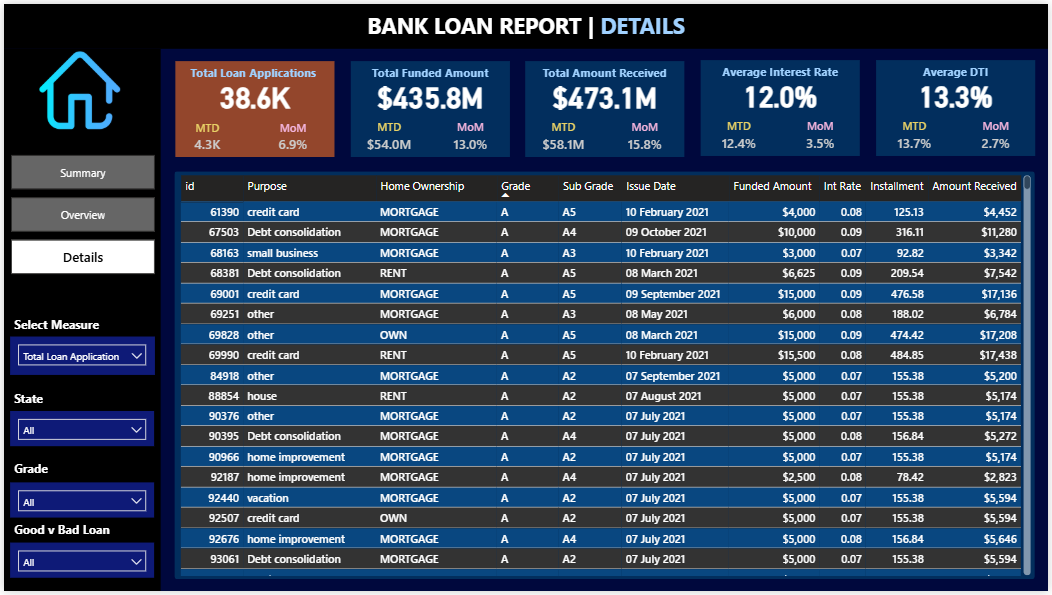

Layout of this report page (visuals, bound fields, positions):
{"tool":"powerbi","page":{"name":"Details","canvas":[1280,720],"ordinal":2},"visuals":[{"type":"shape","box":[0,55,192,665],"z":0},{"type":"shape","box":[854.2,69.3,195,117.5],"z":0,"group":"g4"},{"type":"shape","box":[1069.4,69.3,195,117.5],"z":0,"group":"g5"},{"type":"shape","box":[425.2,69.4,195,117.5],"z":0,"group":"g2"},{"type":"shape","box":[639.4,69.4,195,117.5],"z":0,"group":"g3"},{"type":"shape","box":[210.4,70,195,117.5],"z":0,"group":"g1"},{"type":"card","fields":{"Values":["bank_loan_data.Avg Interest Rate"]},"box":[854.2,88.7,195,45.6],"z":1000,"group":"g4"},{"type":"card","fields":{"Values":["bank_loan_data.Avg DTI"]},"box":[1069.4,88.7,195,45.6],"z":1000,"group":"g5"},{"type":"card","fields":{"Values":["bank_loan_data.Total Funded Amount"]},"box":[425.2,88.8,195,45.6],"z":1000,"group":"g2"},{"type":"card","fields":{"Values":["bank_loan_data.Total Amount Received"]},"box":[639.4,88.8,195,45.6],"z":1000,"group":"g3"},{"type":"card","fields":{"Values":["bank_loan_data.Total Loan Application"]},"box":[210.4,89.4,195,45.6],"z":1000,"group":"g1"},{"type":"shape","box":[209.1,204.5,1054.5,500],"z":1000},{"type":"shape","box":[0,0,1280,55],"z":2000},{"type":"textbox","box":[854,69.6,195.1,30],"z":2000,"group":"g4"},{"type":"textbox","box":[1069.2,69.6,195.1,30],"z":2000,"group":"g5"},{"type":"textbox","box":[425,69.7,195.1,30],"z":2000,"group":"g2"},{"type":"textbox","box":[639.2,69.7,195.1,30],"z":2000,"group":"g3"},{"type":"textbox","box":[210.2,70.3,195.1,30],"z":2000,"group":"g1"},{"type":"textbox","box":[416.2,3.8,447.5,47.5],"z":3000},{"type":"card","title":"MTD","fields":{"Values":["bank_loan_data.MTD Avg Int Rate"]},"box":[867.4,140.1,66.4,46.4],"z":3000,"group":"g4"},{"type":"card","title":"MTD","fields":{"Values":["bank_loan_data.MTD Avg DTI"]},"box":[1082.6,140.1,66.4,46.4],"z":3000,"group":"g5"},{"type":"card","title":"MTD","fields":{"Values":["bank_loan_data.MTD Funded Amount"]},"box":[438.4,140.2,66.4,46.4],"z":3000,"group":"g2"},{"type":"card","title":"MTD","fields":{"Values":["bank_loan_data.MTD Total Amount Received"]},"box":[652.6,140.2,66.4,46.4],"z":3000,"group":"g3"},{"type":"card","title":"MTD","fields":{"Values":["bank_loan_data.MTD Loan Applications"]},"box":[224.1,142.2,50.9,45.5],"z":3000,"group":"g1"},{"type":"group","id":"g1","title":"Group 1","box":[210.2,70,195.2,117.6],"z":4000},{"type":"card","title":"MoM","fields":{"Values":["bank_loan_data.MoM Avg Int Rate"]},"box":[971.9,140.1,58.2,46.4],"z":4000,"group":"g4"},{"type":"card","title":"MoM","fields":{"Values":["bank_loan_data.MoM Avg DTI"]},"box":[1187.1,140.1,58.2,46.4],"z":4000,"group":"g5"},{"type":"card","title":"MoM","fields":{"Values":["bank_loan_data.MoM Total Funded Amount"]},"box":[542.9,140.2,58.2,46.4],"z":4000,"group":"g2"},{"type":"card","title":"MoM","fields":{"Values":["bank_loan_data.MoM Total Amount Recieved"]},"box":[757.1,140.2,58.2,46.4],"z":4000,"group":"g3"},{"type":"card","title":"MoM","fields":{"Values":["bank_loan_data.MoM Loan Application"]},"box":[329.6,142.2,50.9,45.5],"z":4000,"group":"g1"},{"type":"group","id":"g2","title":"Group 1","box":[425,69.4,194.4,118.1],"z":5000},{"type":"group","id":"g3","title":"Group 1","box":[639.2,69.4,195.5,117.3],"z":6000},{"type":"group","id":"g4","title":"Group 1","box":[854,69.3,195.8,117.5],"z":7000},{"type":"group","id":"g5","title":"Group 1","box":[1069.2,69.3,195.8,117.5],"z":8000},{"type":"slicer","fields":{"Values":["bank_loan_data.address_state"]},"box":[7.5,498.4,176.7,43.3],"z":9000},{"type":"textbox","box":[7.5,468.4,57.8,30],"z":10000},{"type":"slicer","fields":{"Values":["bank_loan_data.grade"]},"box":[7.5,586.6,176.7,43.3],"z":11000},{"type":"textbox","box":[7.5,554.3,65.6,30],"z":12000},{"type":"slicer","fields":{"Values":["bank_loan_data.Good v Bad Loan"]},"box":[7.5,659.6,176.7,43.3],"z":13000},{"type":"textbox","box":[7.5,629.3,137.1,30],"z":14000},{"type":"slicer","fields":{"Values":["Select Measure.Select Measure"]},"box":[7.5,407.8,177.1,47.1],"z":15000},{"type":"textbox","box":[7.5,377.8,137.1,30],"z":16000},{"type":"tableEx","fields":{"Values":["bank_loan_data.id","bank_loan_data.purpose","bank_loan_data.home_ownership","bank_loan_data.grade","bank_loan_data.sub_grade","bank_loan_data.issue_date","bank_loan_data.Total Funded Amount","Sum(bank_loan_data.int_rate)","Sum(bank_loan_data.installment)","bank_loan_data.Total Amount Received"]},"box":[211.4,204.5,1052.3,500],"z":17000},{"type":"pageNavigator","box":[8.8,185,176.2,146.2],"z":17001},{"type":"image","box":[37.5,51.2,110,108.8],"z":17002}]}

Visuals, with their boxes in screenshot pixels (x1, y1, x2, y2), scaled from the page's 1280x720 canvas onto the 1052x595 screenshot:
shape: box=[0, 45, 158, 594]
shape: box=[702, 57, 862, 154]
shape: box=[879, 57, 1039, 154]
shape: box=[349, 57, 510, 154]
shape: box=[526, 57, 686, 154]
shape: box=[173, 58, 333, 155]
card - bank_loan_data.Avg Interest Rate: box=[702, 73, 862, 111]
card - bank_loan_data.Avg DTI: box=[879, 73, 1039, 111]
card - bank_loan_data.Total Funded Amount: box=[349, 73, 510, 111]
card - bank_loan_data.Total Amount Received: box=[526, 73, 686, 111]
card - bank_loan_data.Total Loan Application: box=[173, 74, 333, 112]
shape: box=[172, 169, 1039, 582]
shape: box=[0, 0, 1051, 45]
textbox: box=[702, 58, 862, 82]
textbox: box=[879, 58, 1039, 82]
textbox: box=[349, 58, 510, 82]
textbox: box=[525, 58, 686, 82]
textbox: box=[173, 58, 333, 83]
textbox: box=[342, 3, 710, 42]
"MTD" card: box=[713, 116, 767, 154]
"MTD" card: box=[890, 116, 944, 154]
"MTD" card: box=[360, 116, 415, 154]
"MTD" card: box=[536, 116, 591, 154]
"MTD" card: box=[184, 118, 226, 155]
"Group 1" group: box=[173, 58, 333, 155]
"MoM" card: box=[799, 116, 847, 154]
"MoM" card: box=[976, 116, 1023, 154]
"MoM" card: box=[446, 116, 494, 154]
"MoM" card: box=[622, 116, 670, 154]
"MoM" card: box=[271, 118, 313, 155]
"Group 1" group: box=[349, 57, 509, 155]
"Group 1" group: box=[525, 57, 686, 154]
"Group 1" group: box=[702, 57, 863, 154]
"Group 1" group: box=[879, 57, 1040, 154]
slicer - bank_loan_data.address_state: box=[6, 412, 151, 448]
textbox: box=[6, 387, 54, 412]
slicer - bank_loan_data.grade: box=[6, 485, 151, 521]
textbox: box=[6, 458, 60, 483]
slicer - bank_loan_data.Good v Bad Loan: box=[6, 545, 151, 581]
textbox: box=[6, 520, 119, 545]
slicer - Select Measure.Select Measure: box=[6, 337, 152, 376]
textbox: box=[6, 312, 119, 337]
tableEx - bank_loan_data.id x bank_loan_data.purpose: box=[174, 169, 1039, 582]
pageNavigator: box=[7, 153, 152, 274]
image: box=[31, 42, 121, 132]
